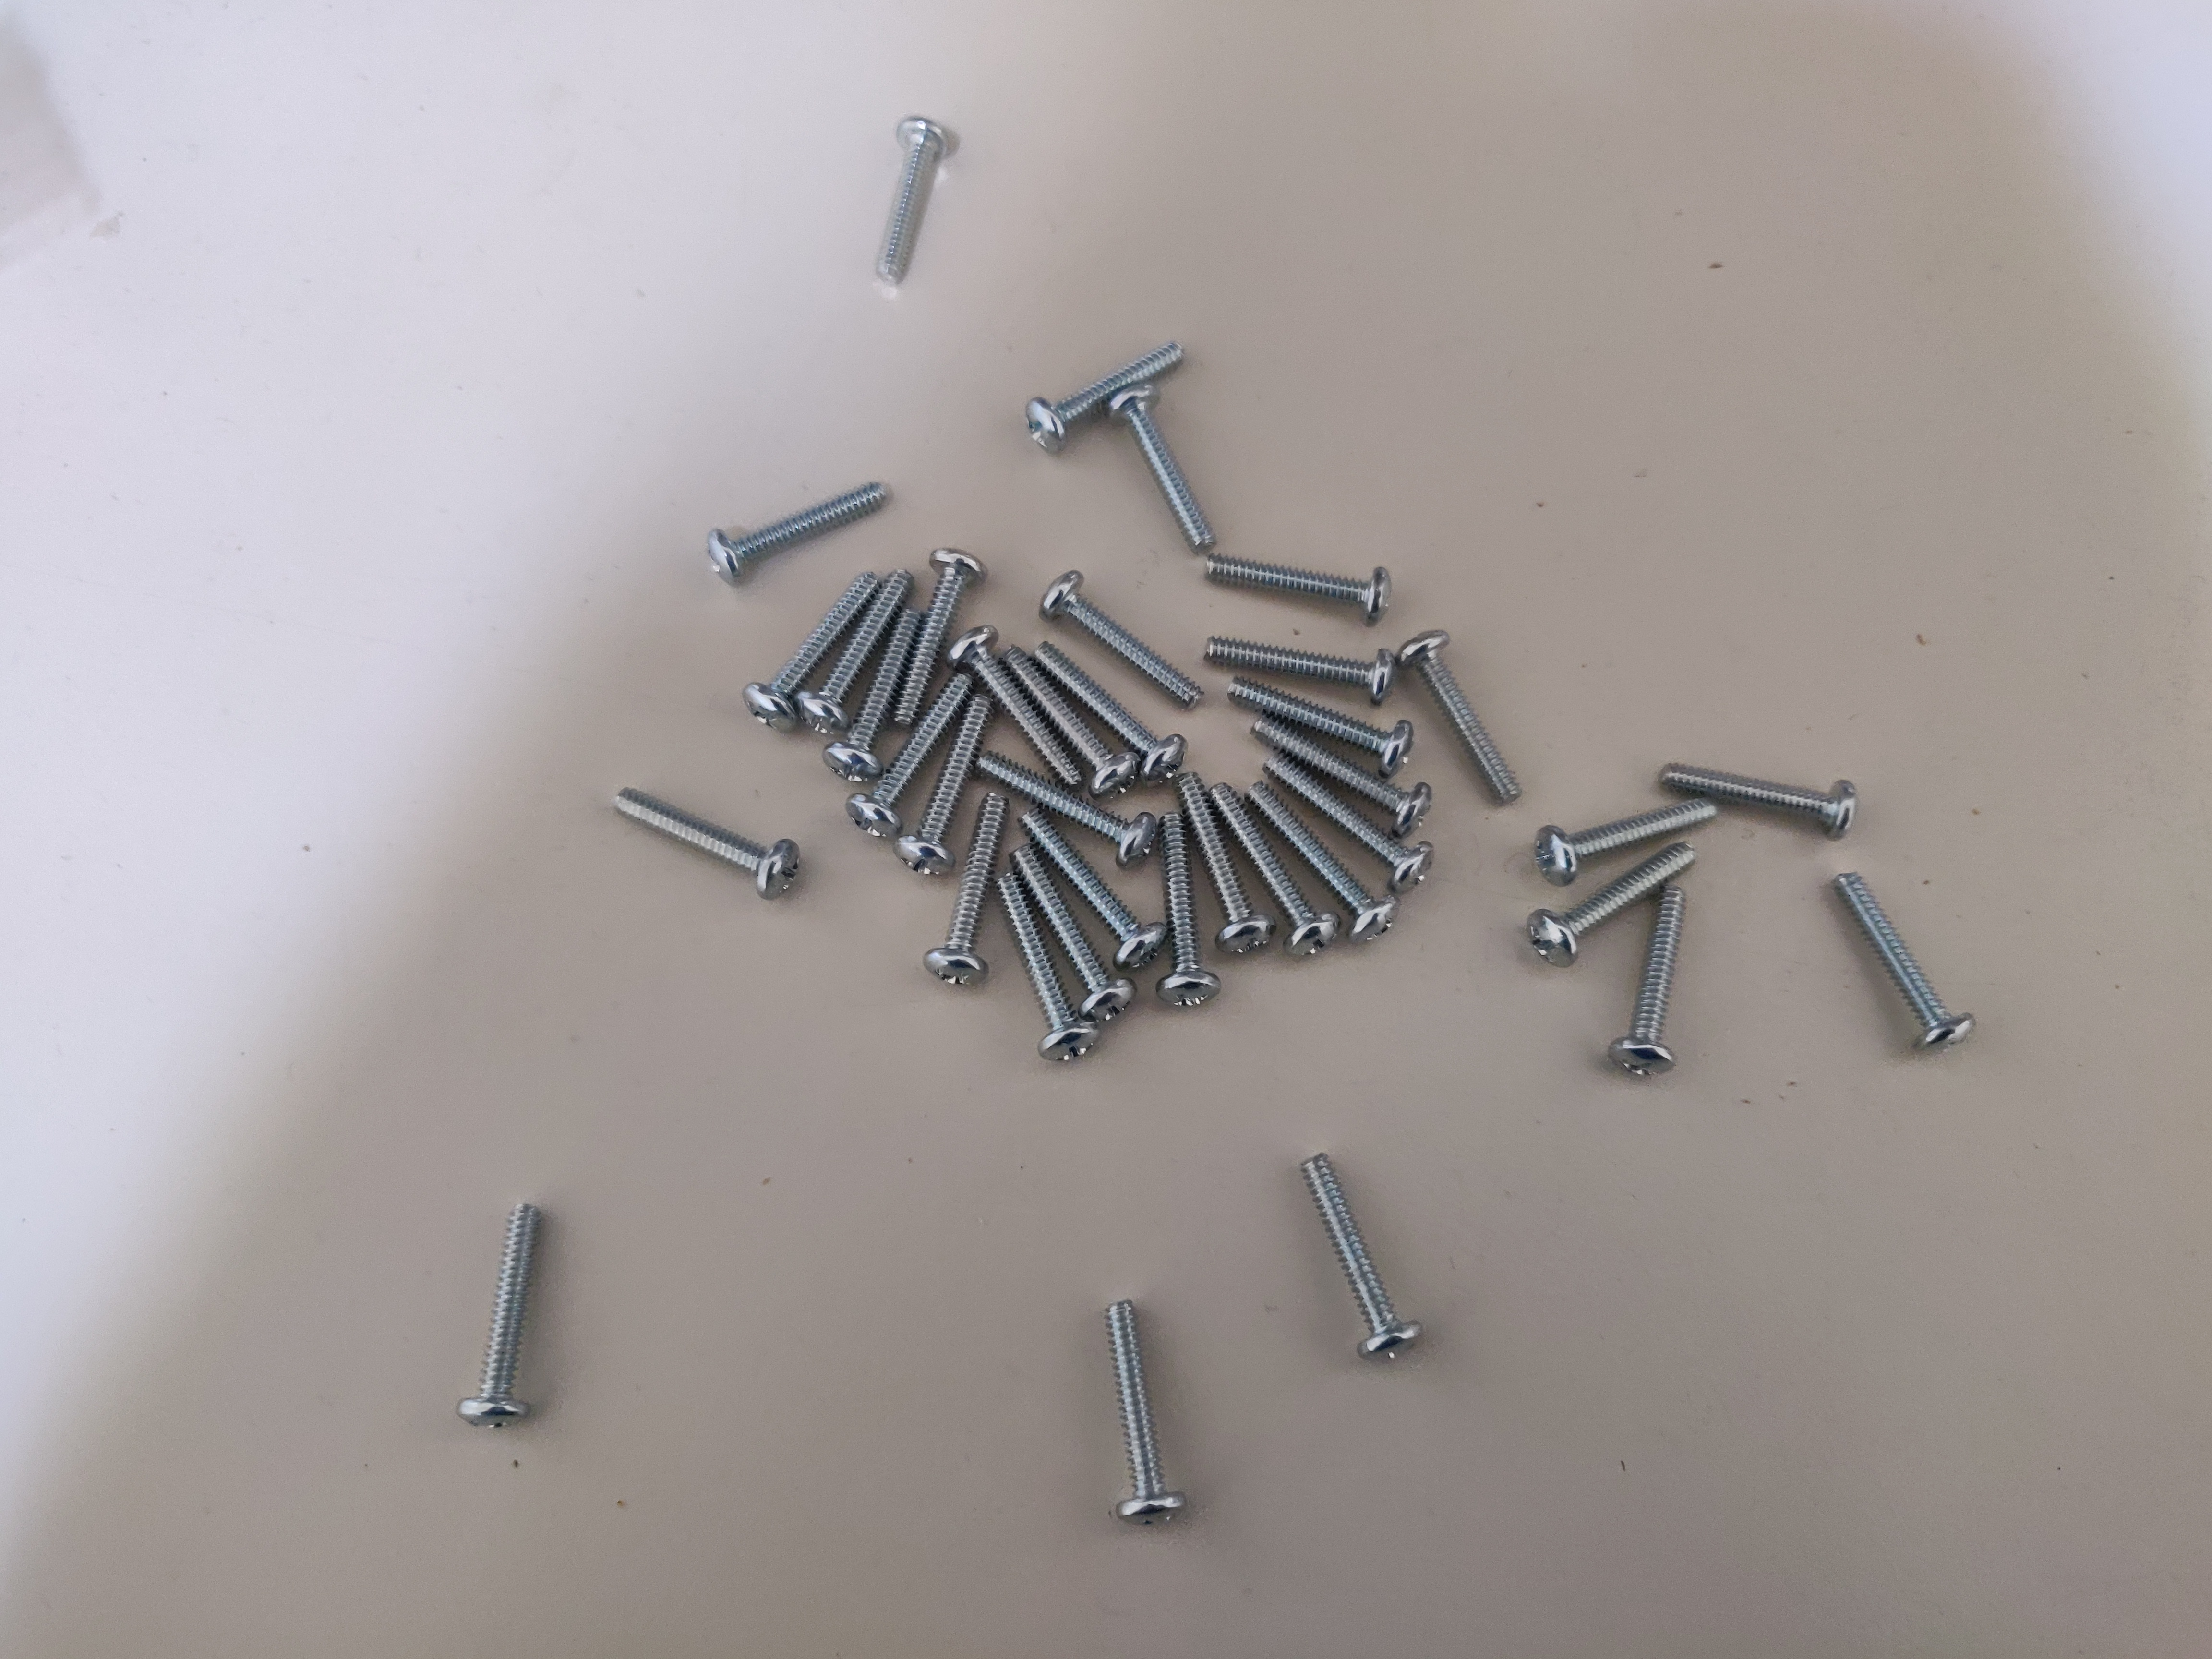longscrew: (1834, 875, 1982, 1049), (1609, 887, 1733, 1093), (1090, 1293, 1197, 1521), (1310, 1145, 1416, 1373), (1397, 633, 1529, 810), (1026, 809, 1174, 965), (1217, 777, 1341, 964), (1017, 843, 1139, 1025), (1036, 558, 1184, 704), (1261, 758, 1433, 884), (603, 789, 805, 896), (1524, 852, 1707, 969), (1000, 868, 1103, 1075), (744, 579, 883, 728), (977, 751, 1155, 864), (859, 667, 968, 843), (467, 1197, 545, 1443), (709, 467, 890, 573), (1252, 782, 1386, 922), (1047, 634, 1181, 772), (1235, 669, 1418, 769), (1663, 751, 1876, 836), (1181, 779, 1271, 972), (960, 626, 1071, 781), (1012, 643, 1123, 798), (1251, 723, 1428, 819), (899, 697, 989, 884), (805, 572, 906, 732), (1204, 540, 1400, 615), (1204, 620, 1399, 695), (1028, 342, 1179, 437), (1163, 807, 1228, 1032), (892, 545, 972, 723), (1116, 397, 1211, 544), (838, 615, 916, 777), (935, 788, 996, 993), (1526, 809, 1716, 873), (887, 110, 939, 295)
